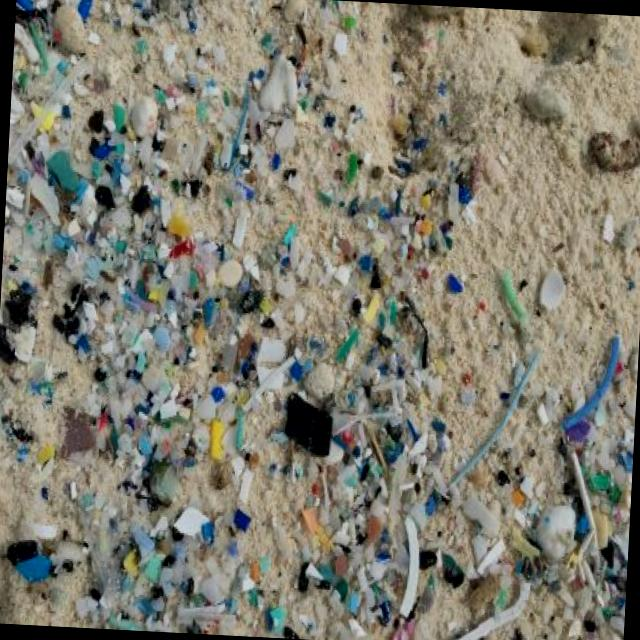garbage: (0, 84, 636, 640)
